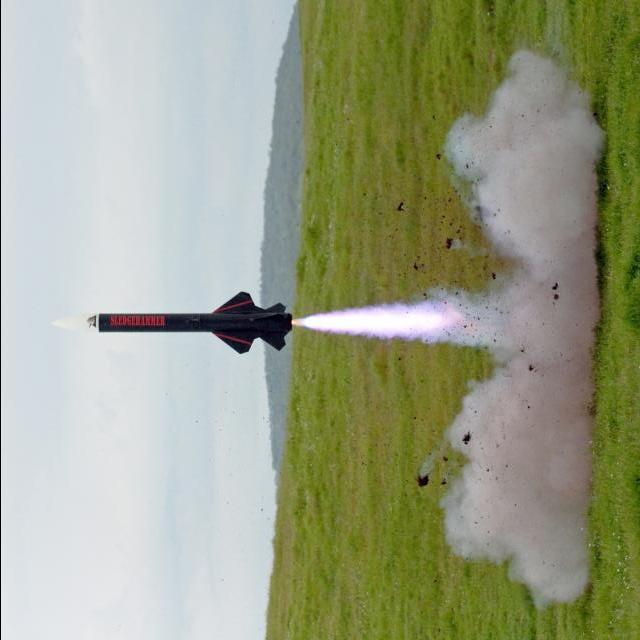missile: (81, 306, 291, 342)
